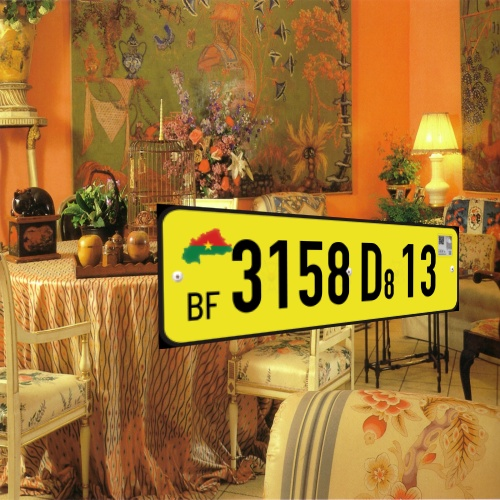plate: (142, 192, 476, 358)
